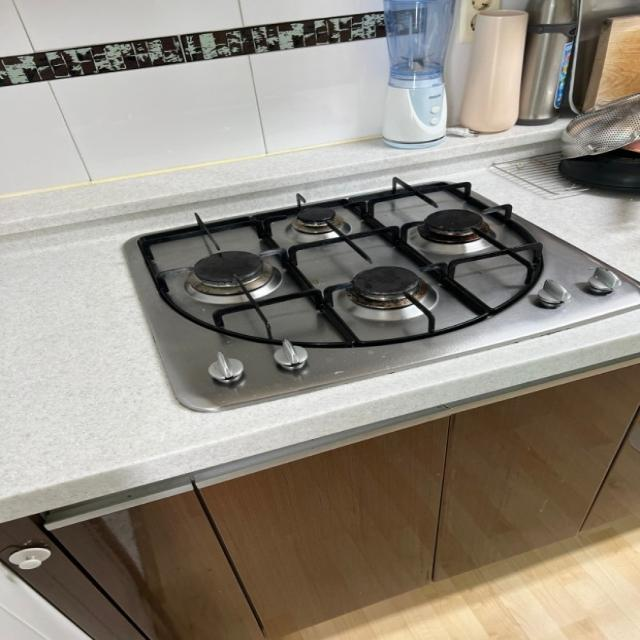knob_ON: (136, 210, 570, 327)
